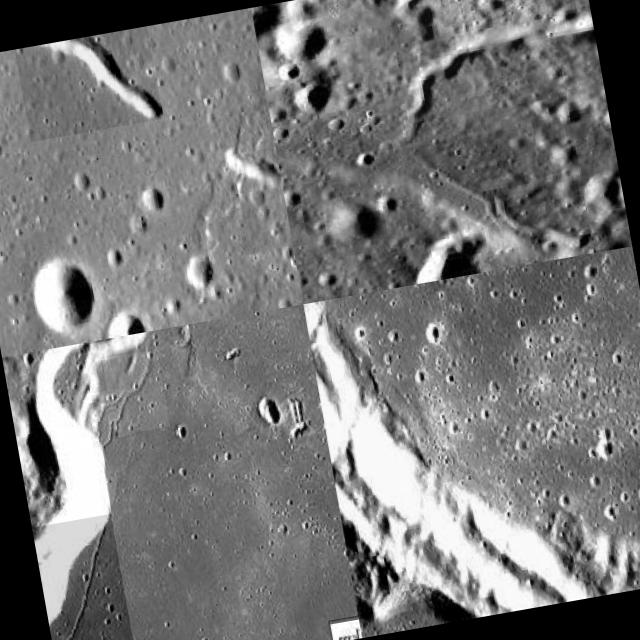rille: (303, 245, 640, 636), (347, 0, 606, 152), (14, 26, 162, 142), (31, 513, 138, 640), (102, 348, 170, 436), (86, 387, 132, 441), (100, 419, 118, 446)
